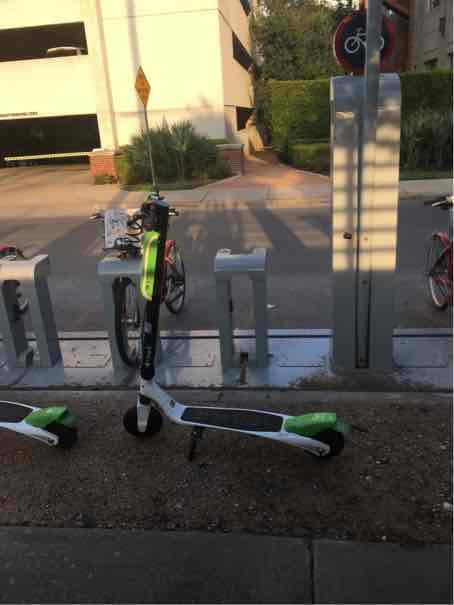scooter: (100, 174, 362, 465)
